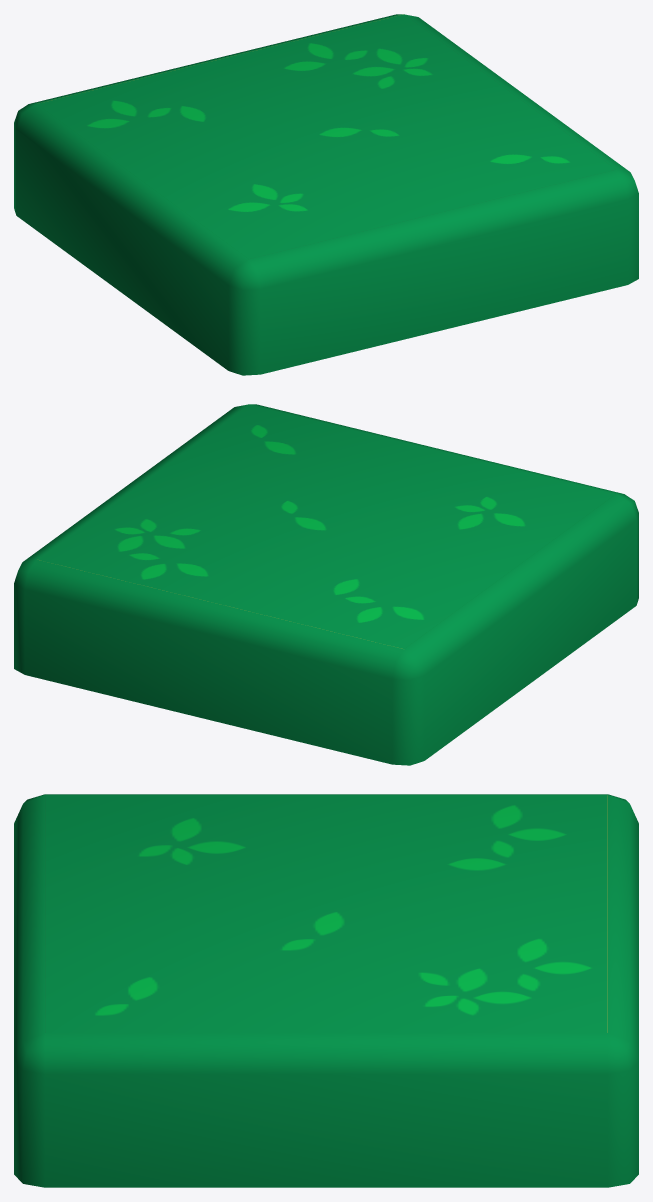
Rendered from 3D_Tile_Top_01v06.fbx.
3 views of the same model, one above another, from view 1: azimuth 30°, elevation 25°; view 2: azimuth 150°, elevation 25°; view 3: azimuth 270°, elevation 25° (orthographic). The views are drawn at different scales.
Parts seen in each view (by area): view 1: 3D_Tile_Top_01v06; view 2: 3D_Tile_Top_01v06; view 3: 3D_Tile_Top_01v06.
Boxes of the visible parts, x1,y1,x2,y2 form: 3D_Tile_Top_01v06: (14, 14, 638, 375); 3D_Tile_Top_01v06: (14, 404, 638, 765); 3D_Tile_Top_01v06: (14, 794, 638, 1187).
Bounding box in the file's own units: 200 × 50 × 200.
